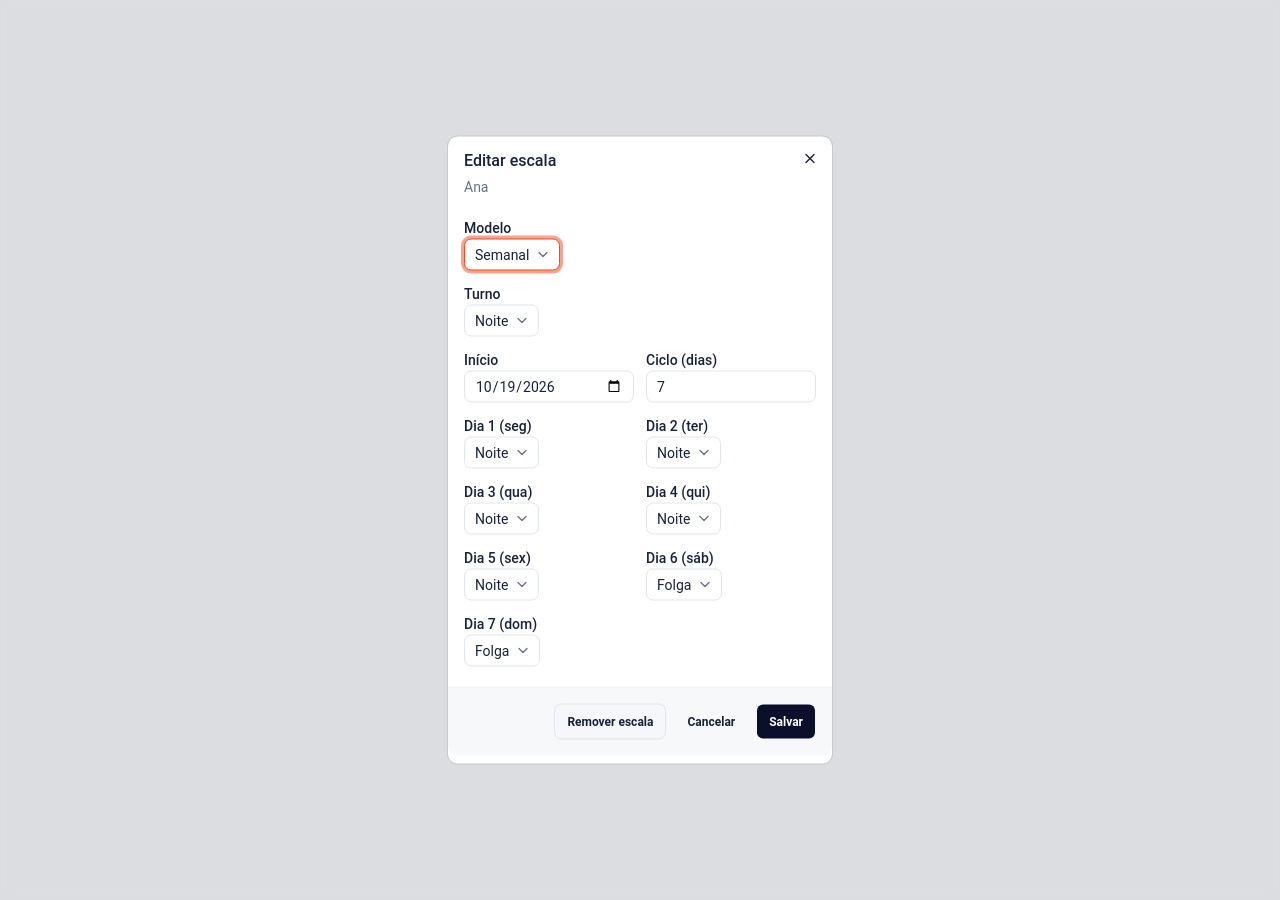
Test: ScheduleEditorDialog: remoção e erro › 422 staff_schedule.invalid_shift mostra a mensagem do turno e não fecha
Click the button "Salvar" at (786,722), box [756,704,816,740]
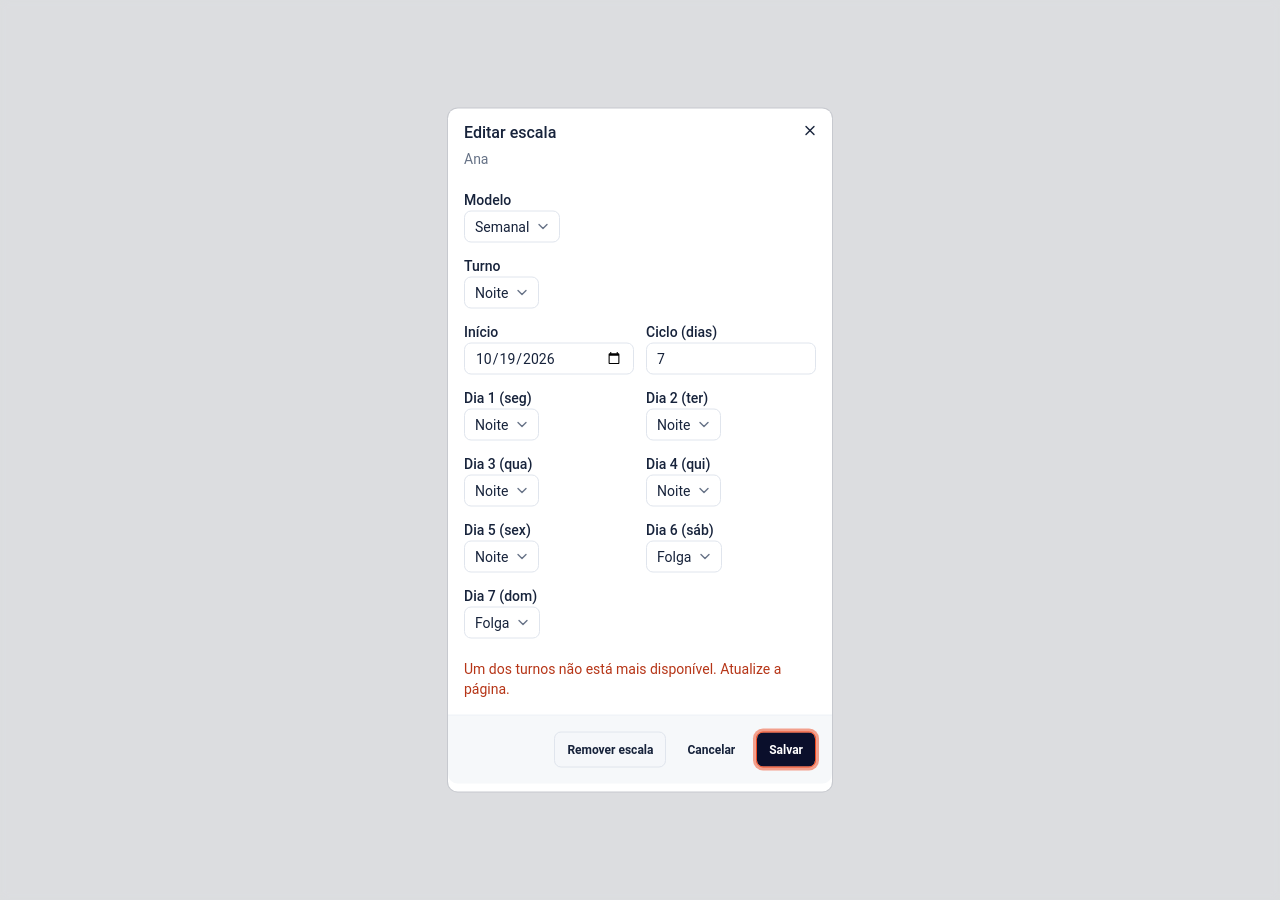
Expected: the message reads "Um dos turnos não está mais disponível. Atualize a página.", [464,660,781,696]
